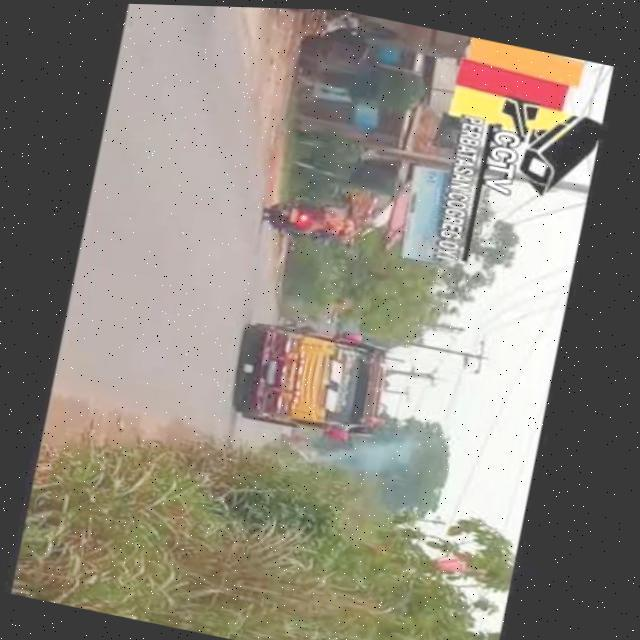truck: (228, 305, 410, 446)
